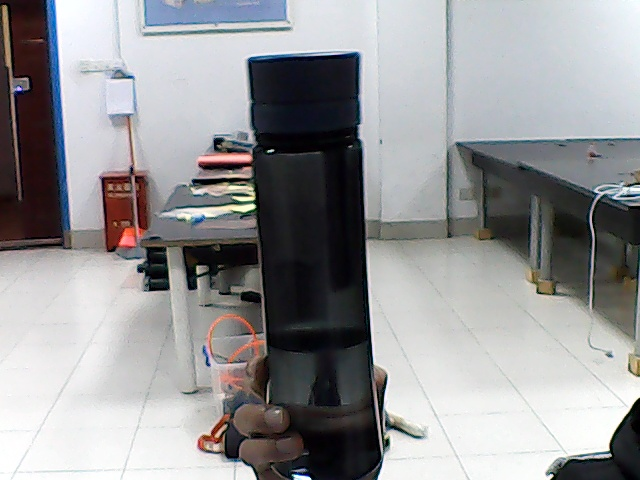cup: (266, 73, 362, 400)
